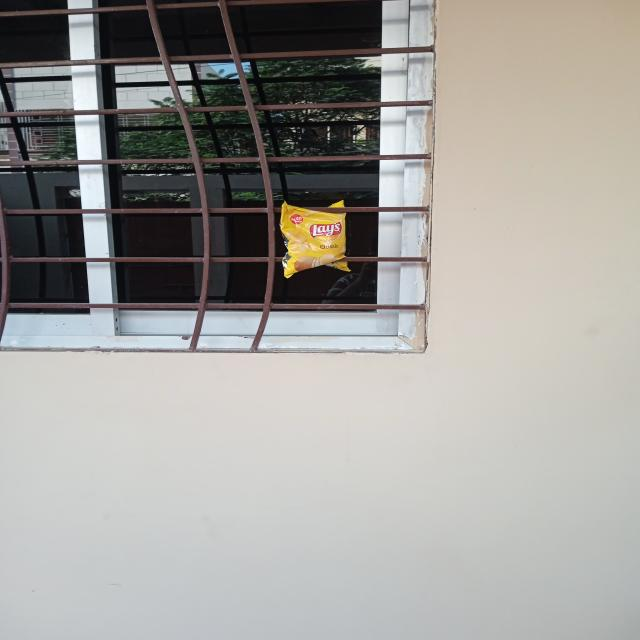Plastic: (271, 189, 359, 280)
